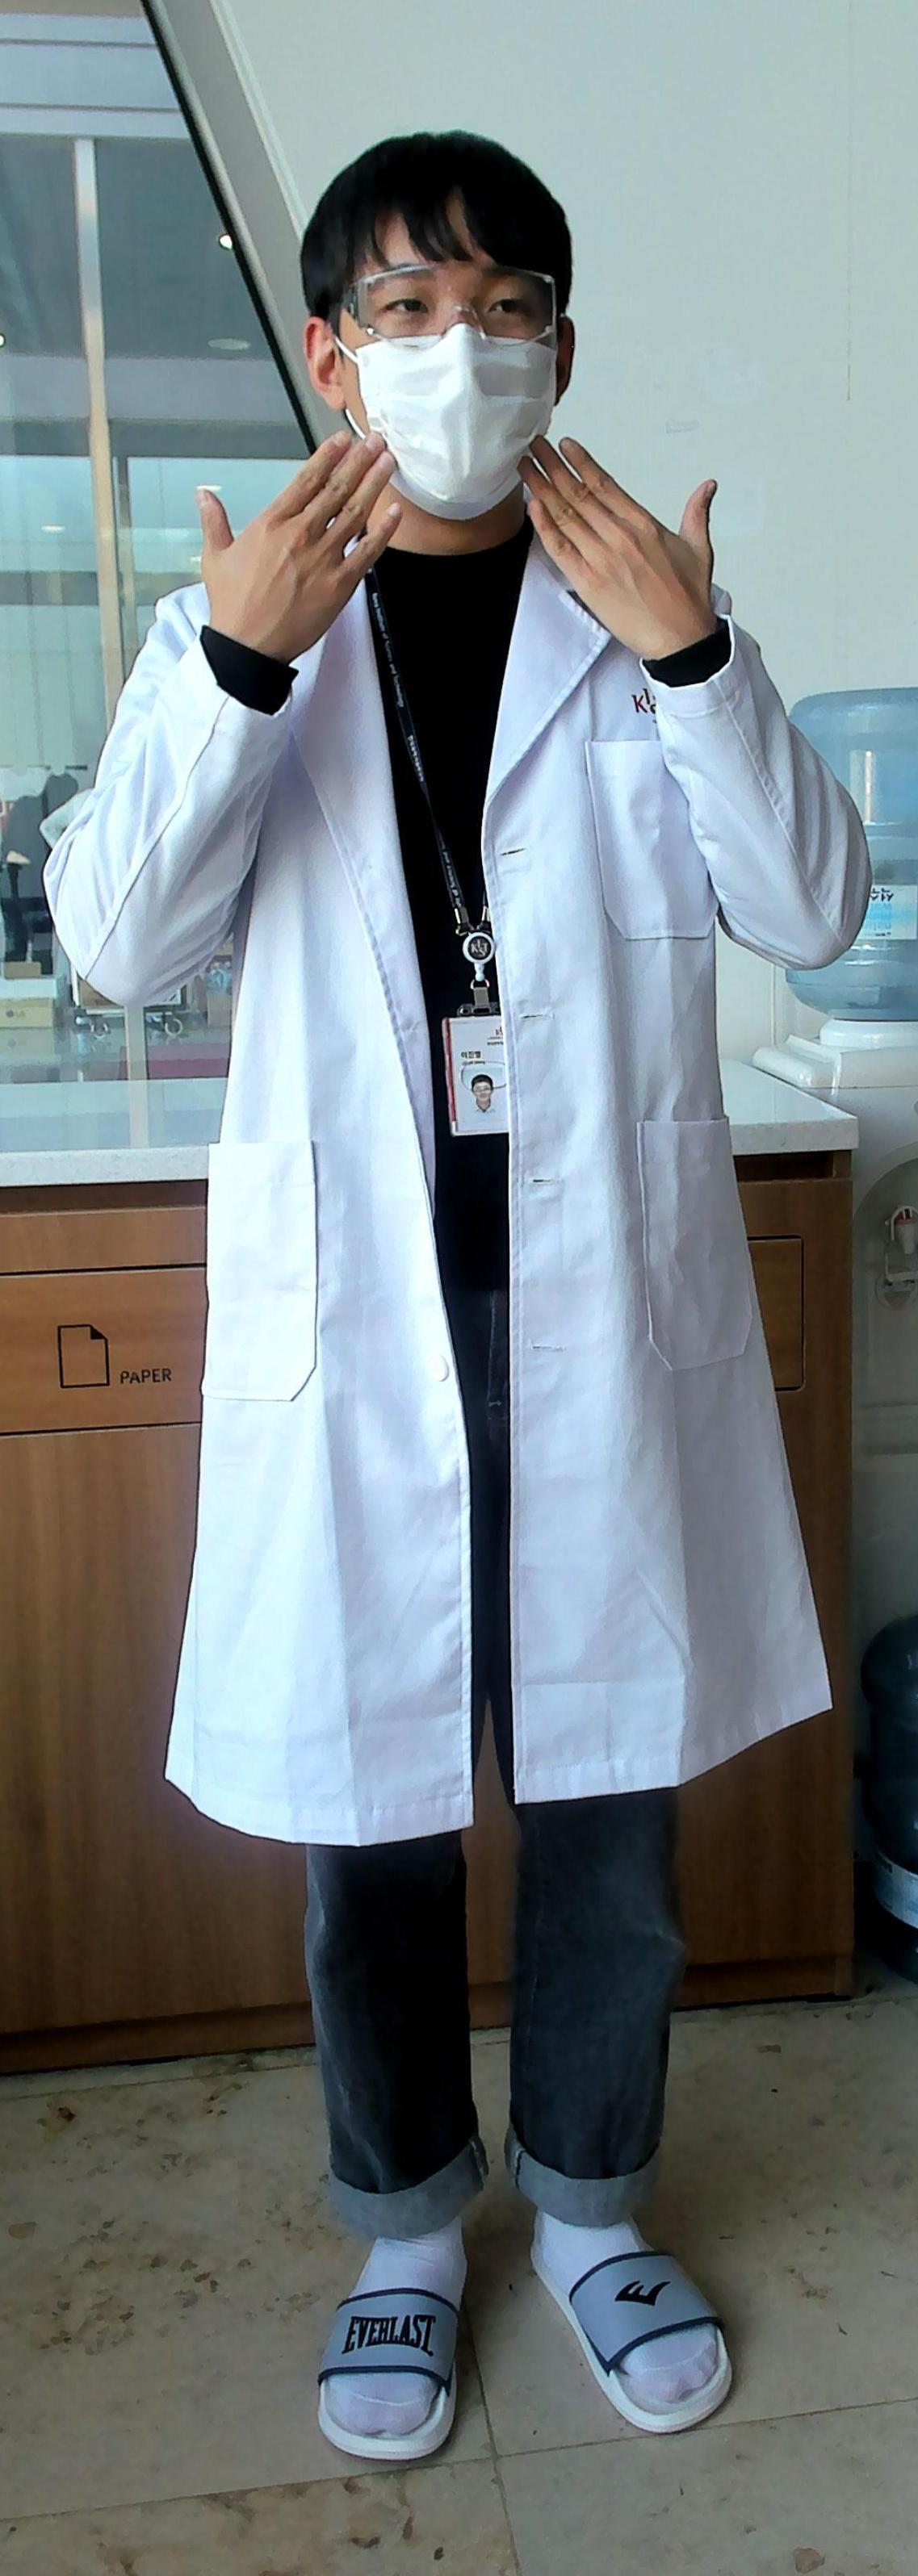lab_coat: (102, 639, 816, 1799)
